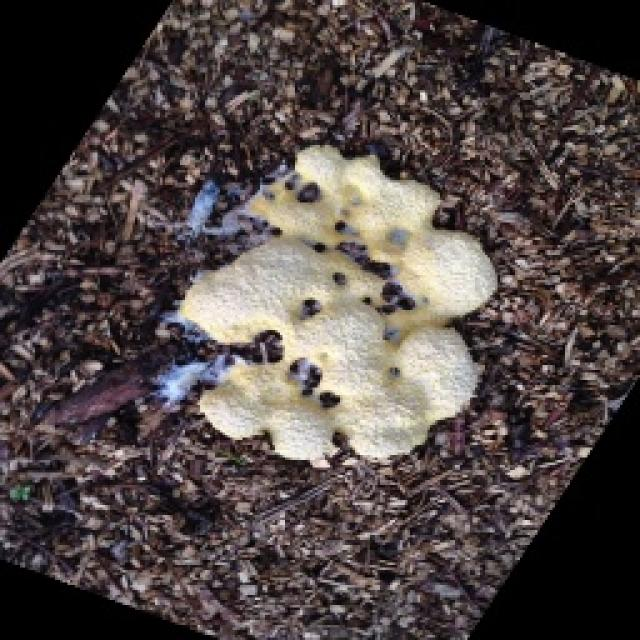Dog_vomit_slime_mold: (147, 119, 548, 489)
